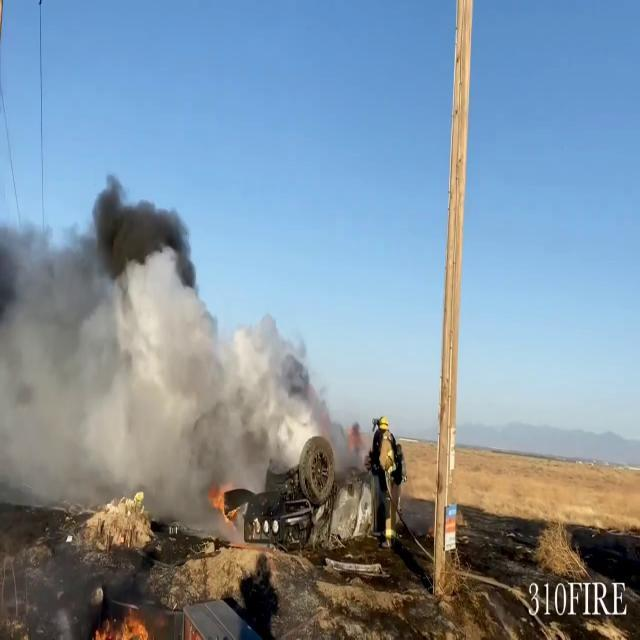Fire: (89, 603, 159, 640)
Smoke: (0, 164, 326, 518)
